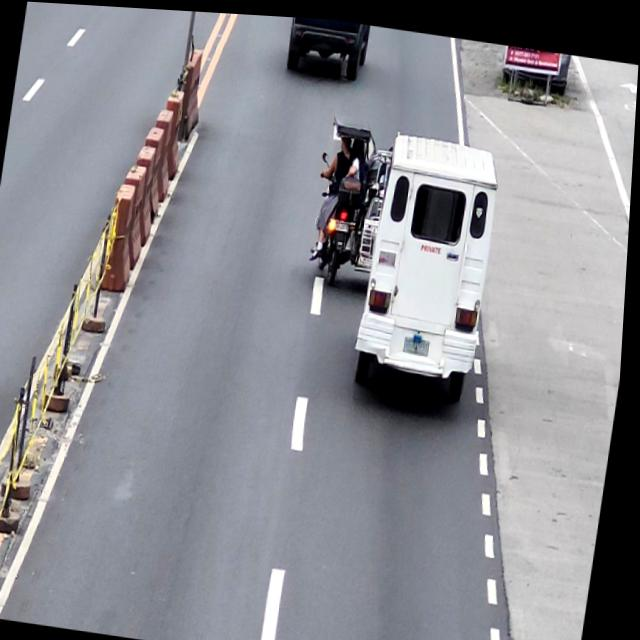Car: (355, 121, 506, 402), (283, 13, 371, 77)
License-Plate: (407, 331, 436, 352), (334, 217, 351, 229)
Tricycle: (307, 110, 402, 282)
